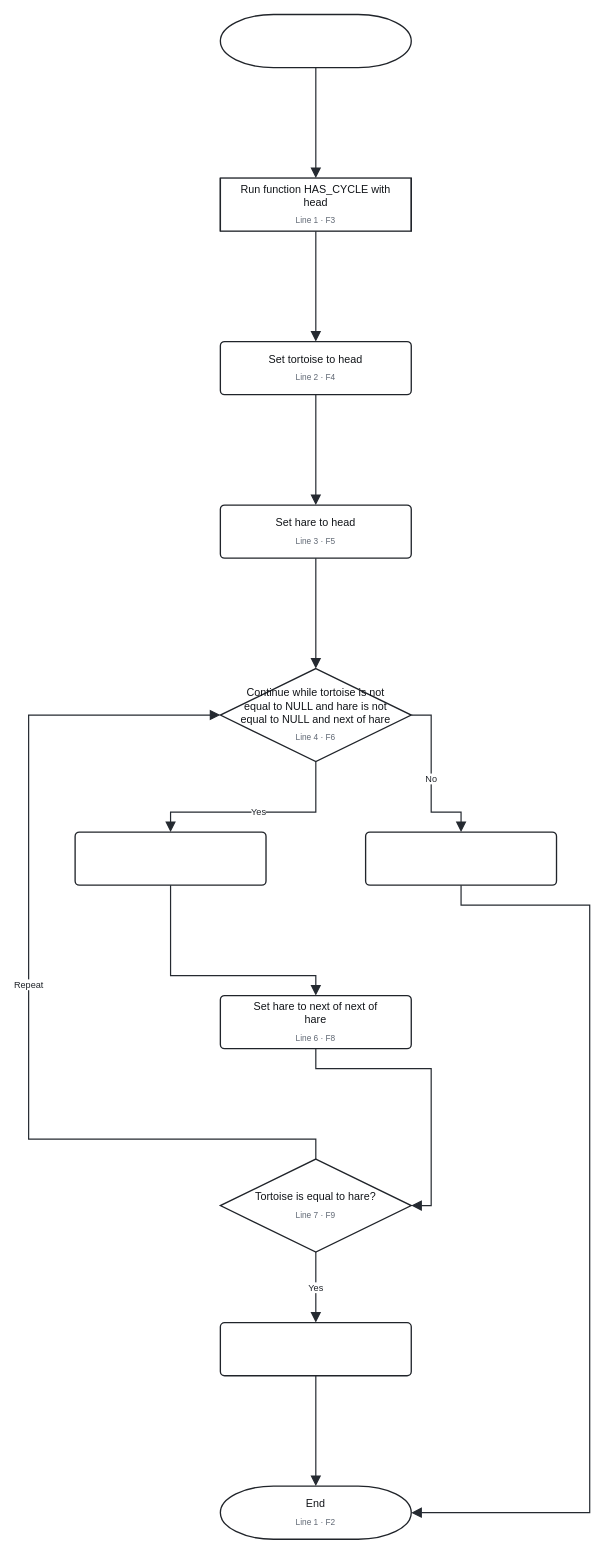
This 614x1555 diagram has some shape labels left out. Each missing label, with the centre of its shape:
Return false Line 11 · F11: the point at 461,858
Return true Line 8 · F10: the point at 315,1349
Set tortoise to next of tortoise Line 5 · F7: the point at 170,858
Start Line 1 · F1: the point at 315,40
